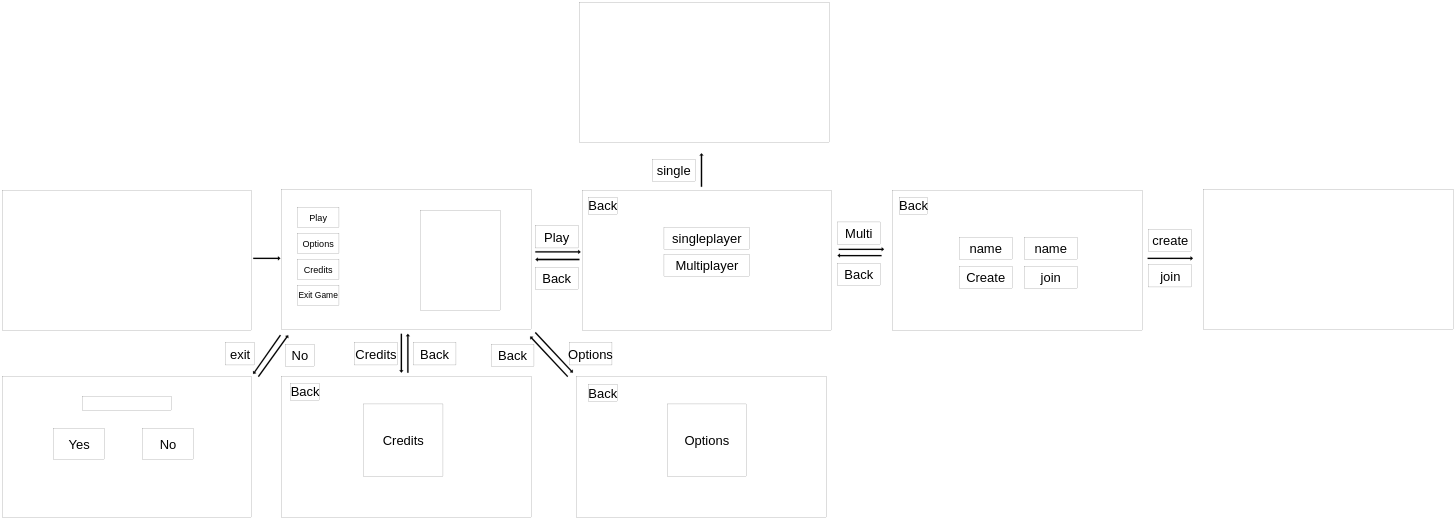
Image size: 1455x519. Some labels were removed from this diagram. Here are the shapes that lost their labels. From the top down, the centre of each, then its label:
the point at 127,260: Click any key to continue
the point at 127,403: Are you sure?
